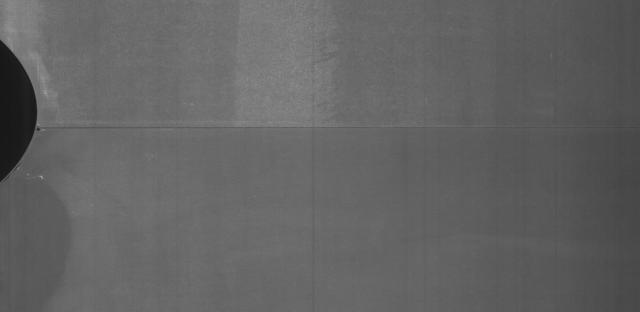crescent_gap: (0, 29, 52, 192)
welding_line: (40, 116, 638, 143)
